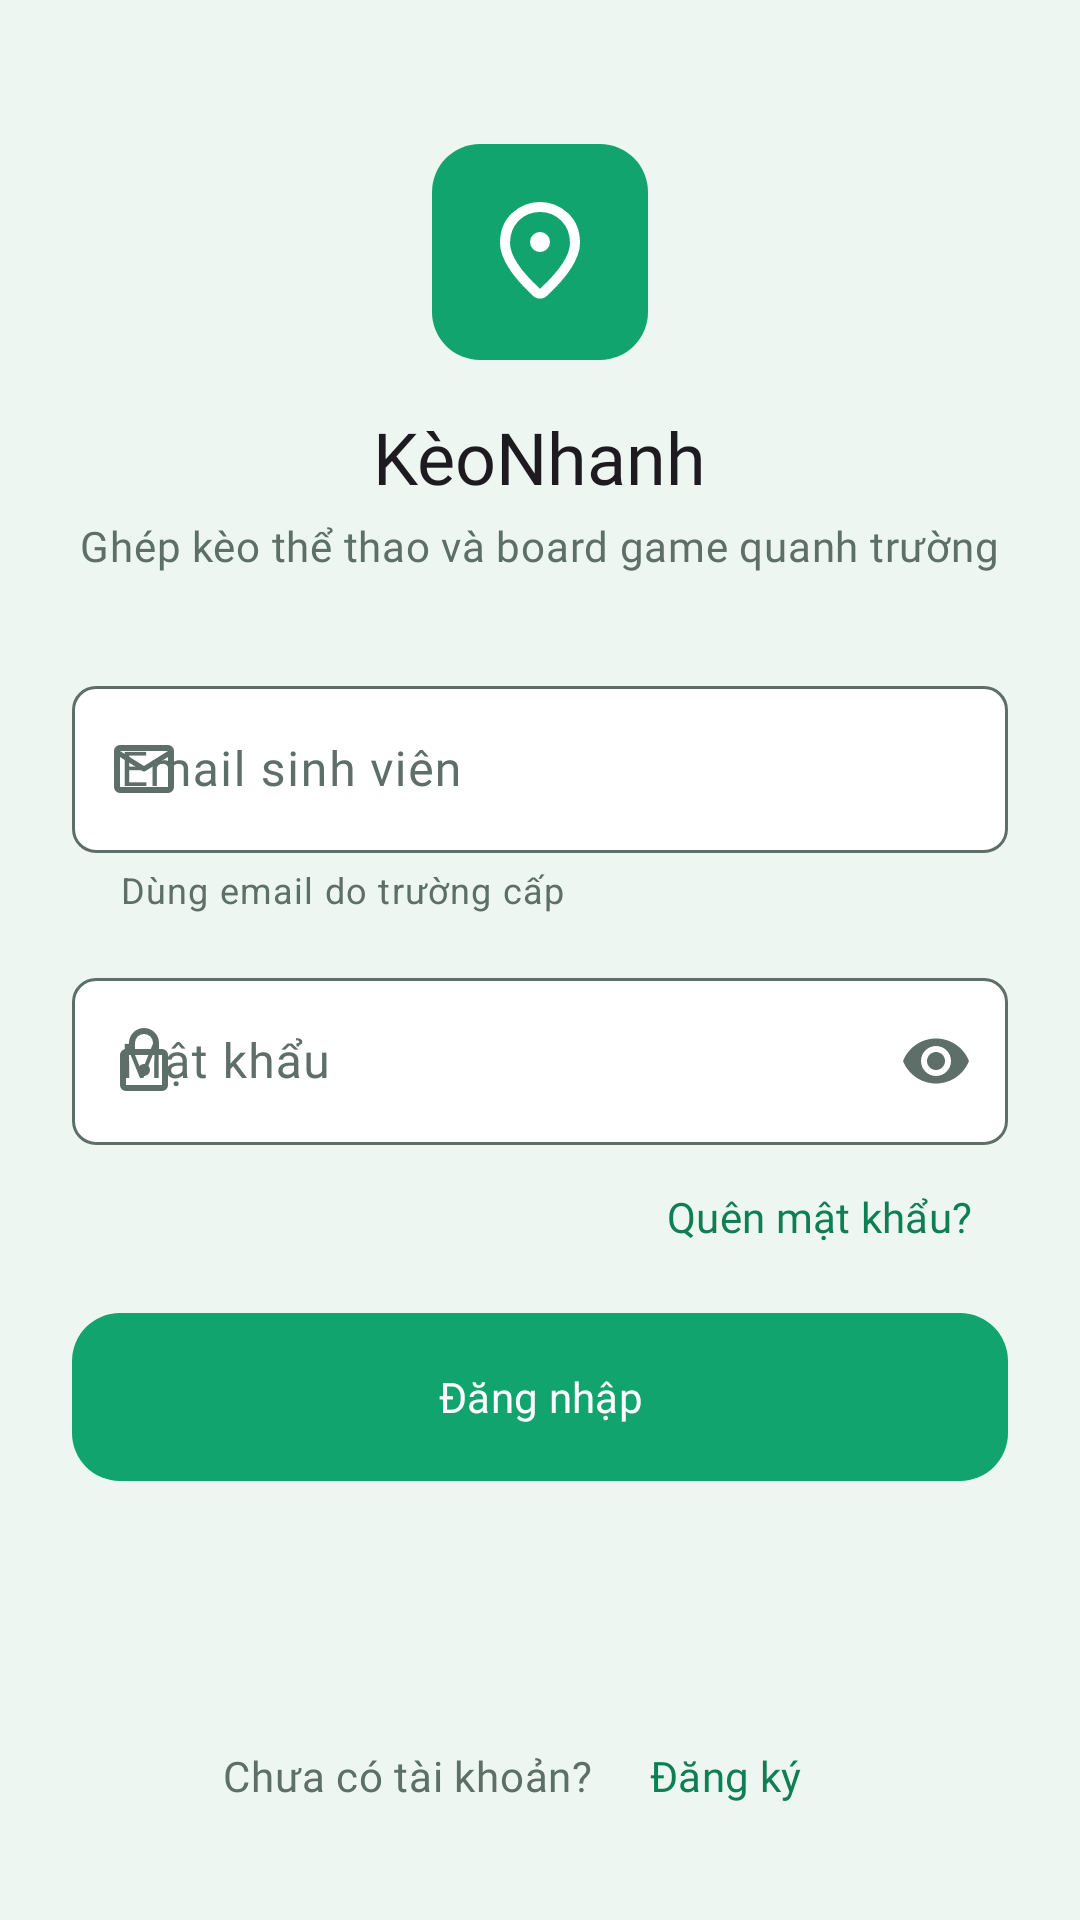

Icon bounding boxes for this 1080*1920 phone screenshot, format (x1, y1, x2, y2):
location on: (432, 144, 648, 360)
